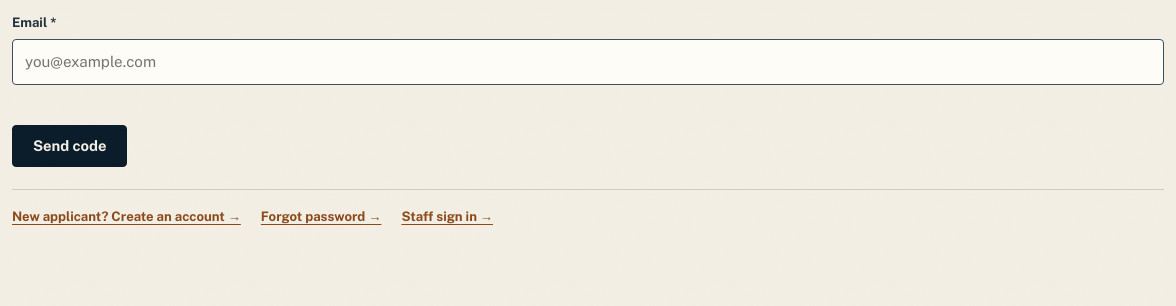
it: Supabase sign-in privacy › shows a recoverable rate-limit state without revealing account existence
In the field labelled "Email *": [588, 62] box [12,39,1164,85], type "unknown@example.test"
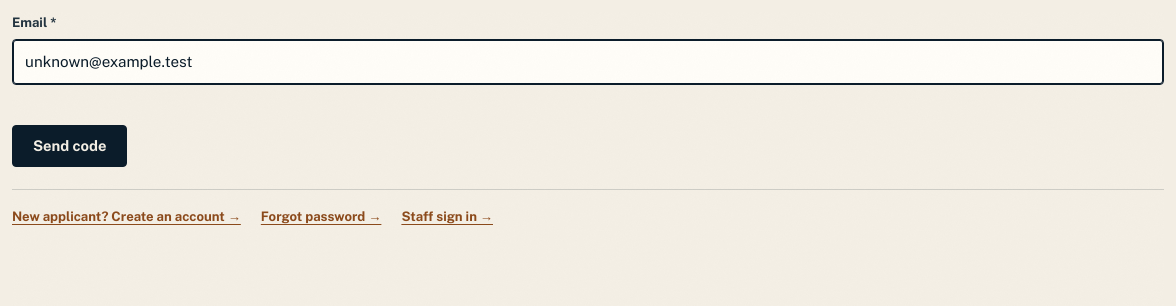
Click the button "Send code": [70, 146] box [12,125,128,167]
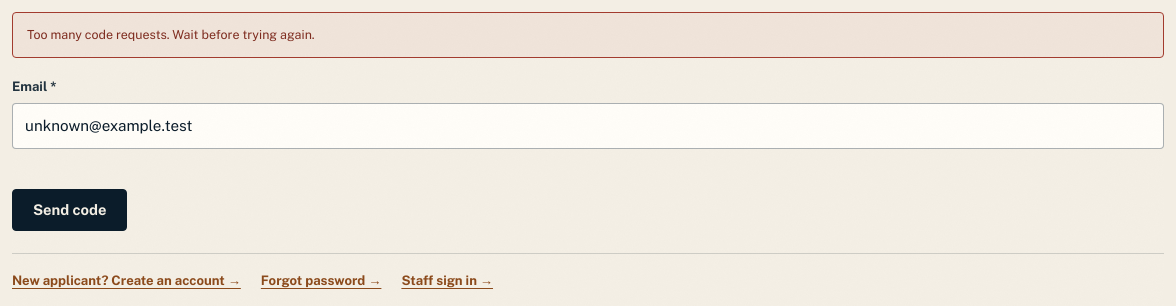
Check: the message shows "Too many code requests", box [27,27,315,42]
